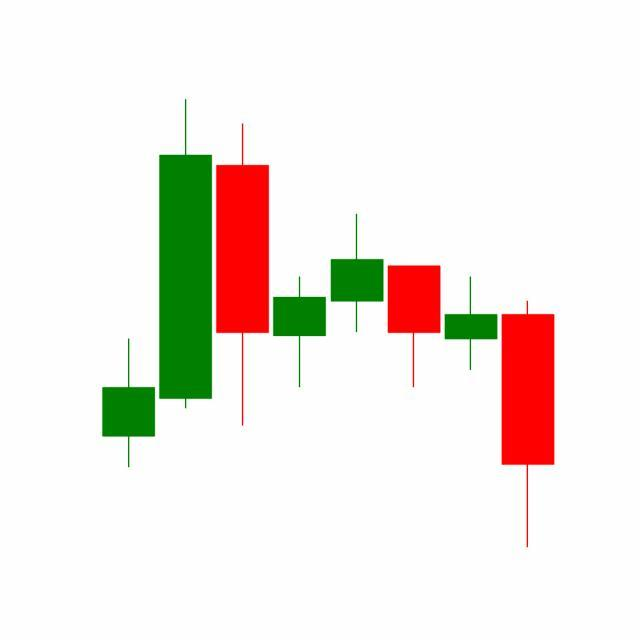Hikkake Pattern: (270, 210, 555, 548)
